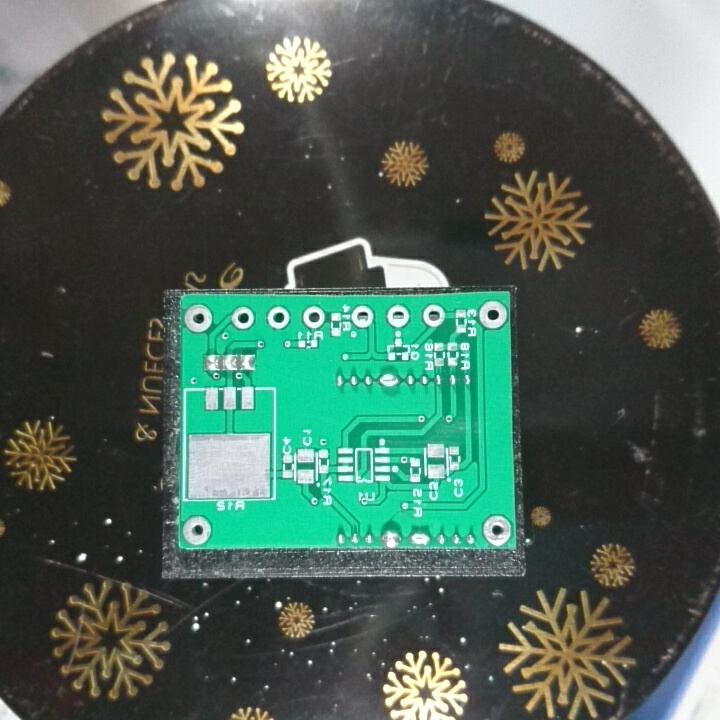F: (180, 515, 214, 547), (481, 515, 513, 548), (183, 300, 213, 335), (477, 298, 508, 331), (418, 302, 447, 329), (349, 303, 375, 331), (299, 304, 325, 330), (265, 304, 288, 331), (230, 304, 252, 332), (385, 303, 408, 329)
P: (377, 527, 403, 548), (408, 529, 431, 548), (377, 372, 400, 390)
